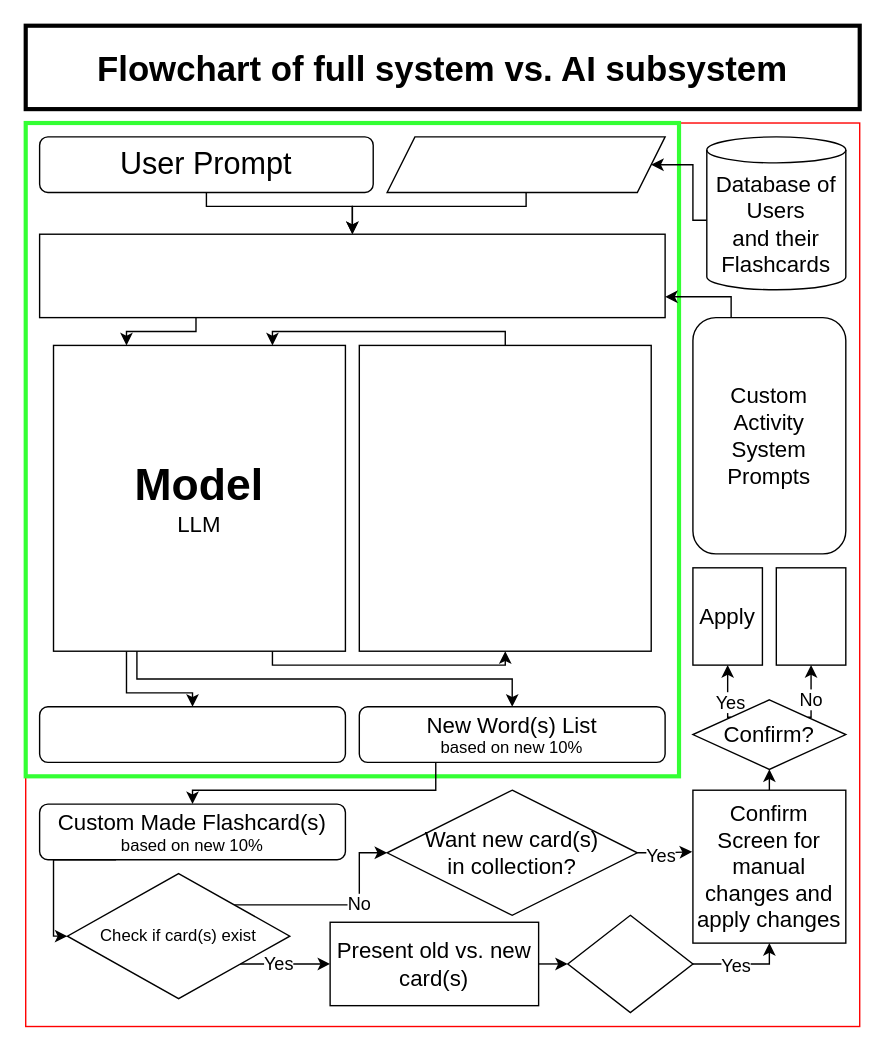
This 885x1051 diagram has some shape labels left out. The centre of each missing label's shape, as x and y in pixels:
"Cancel" belongs at (810,615).
"Corrector Measures accuracy & corrects output for model output refinement" belongs at (504,497).
"Current User Cards" belongs at (525,164).
"Improve?" belongs at (629,963).
"Natural Output" belongs at (191,733).
"Prompt Preprocessor (incl. system prompt)" belongs at (351,275).
